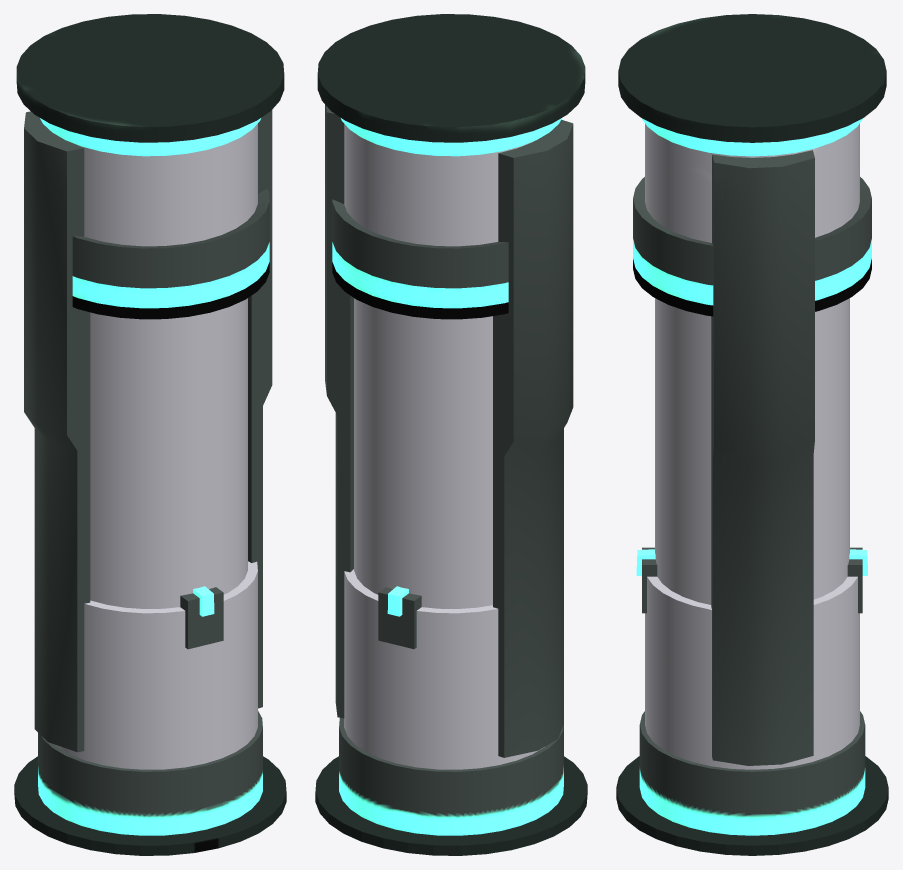
Rendered from Powersupply-NoCase.fbx.
3 views of the same model, side by side, from view 1: azimuth 30°, elevation 25°; view 2: azimuth 150°, elevation 25°; view 3: azimuth 270°, elevation 25° (orthographic).
Visible parts, largest first — view 1: PowerSupply; view 2: PowerSupply; view 3: PowerSupply.
Boxes of the visible parts, x1=… form: PowerSupply: x1=14, y1=14, x2=286, y2=855; PowerSupply: x1=315, y1=14, x2=587, y2=855; PowerSupply: x1=616, y1=14, x2=888, y2=855.
Size of the model in its own units: 58.23 by 172 by 58.23.
